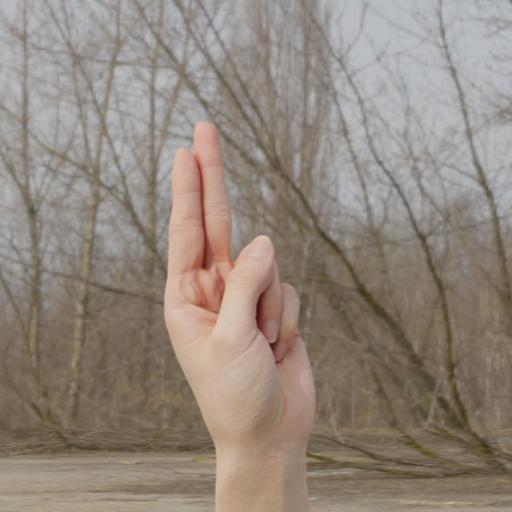U: (163, 115, 335, 463)
